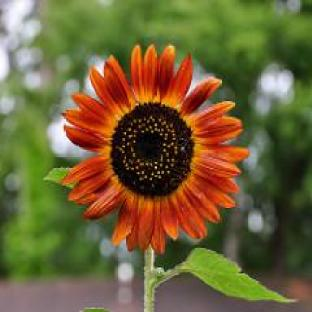sunflower: (44, 45, 296, 312)
